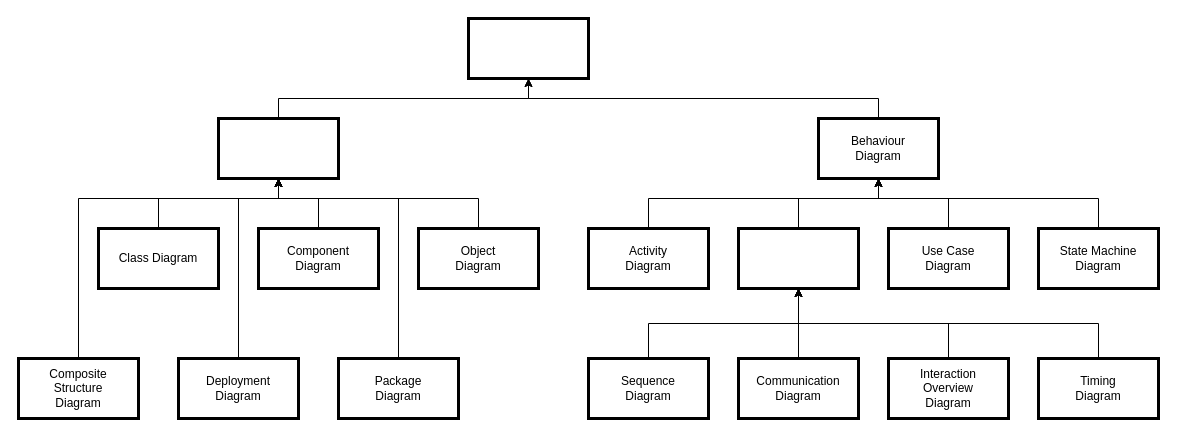
This 1177x437 diagram has some shape labels left out. Each missing label, with the centre of its shape:
"Diagram" goes at point 528,48.
"Interaction Diagram" goes at point 798,258.
"Structure Diagram" goes at point 278,148.
